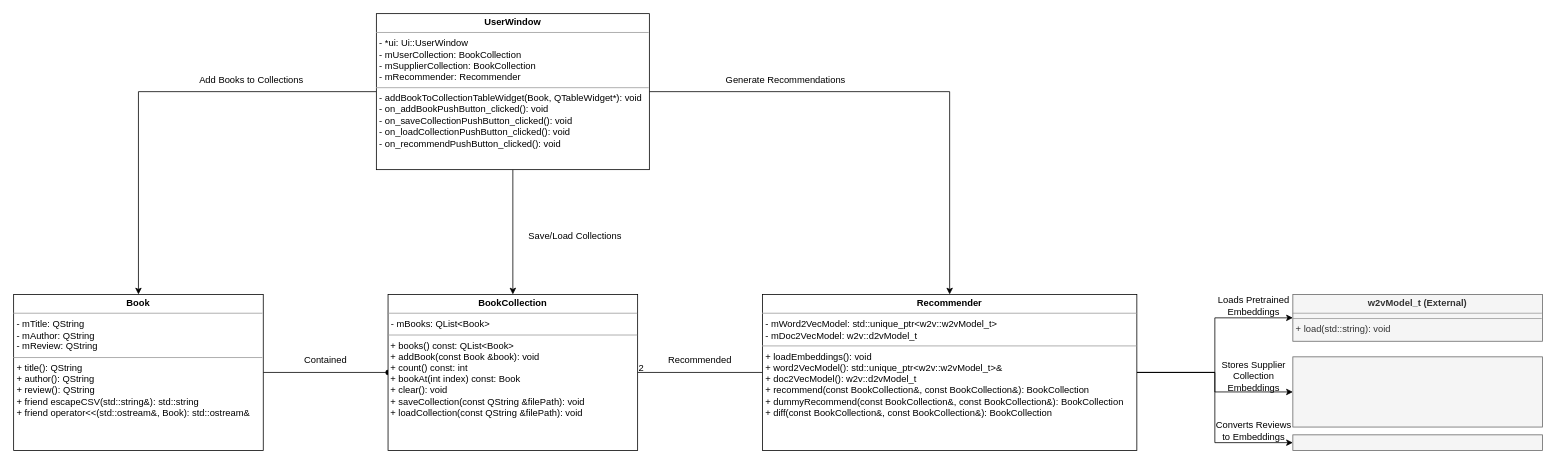
Image size: 1556x464. Some labels were removed from this diagram. Here are the shapes that lost their labels. From the top down, the centre of each, then its label:
pixel 1417 391: d2vModel_t (External) - m_vectorSize: uint16_t + set(std::string): void
pixel 1417 442: doc2vec_t (External)
